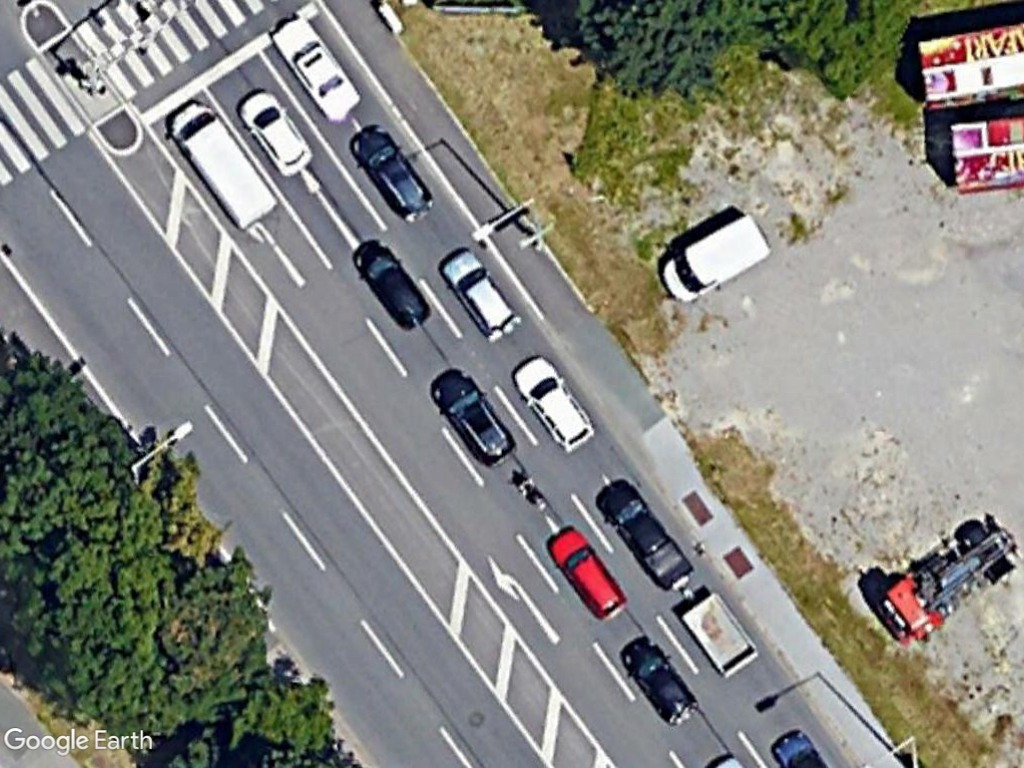car: (262, 10, 365, 125), (335, 122, 436, 226), (505, 351, 600, 457), (541, 515, 629, 624), (426, 369, 520, 470), (347, 232, 436, 337), (435, 246, 527, 344), (617, 633, 702, 732), (236, 83, 318, 182)
van: (158, 97, 282, 233), (657, 207, 784, 309)
